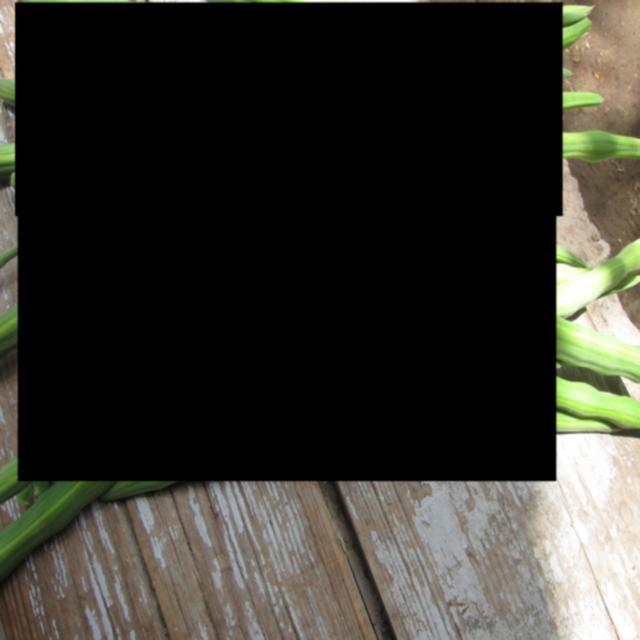Sajjyun: (18, 197, 556, 481), (15, 2, 563, 216)
